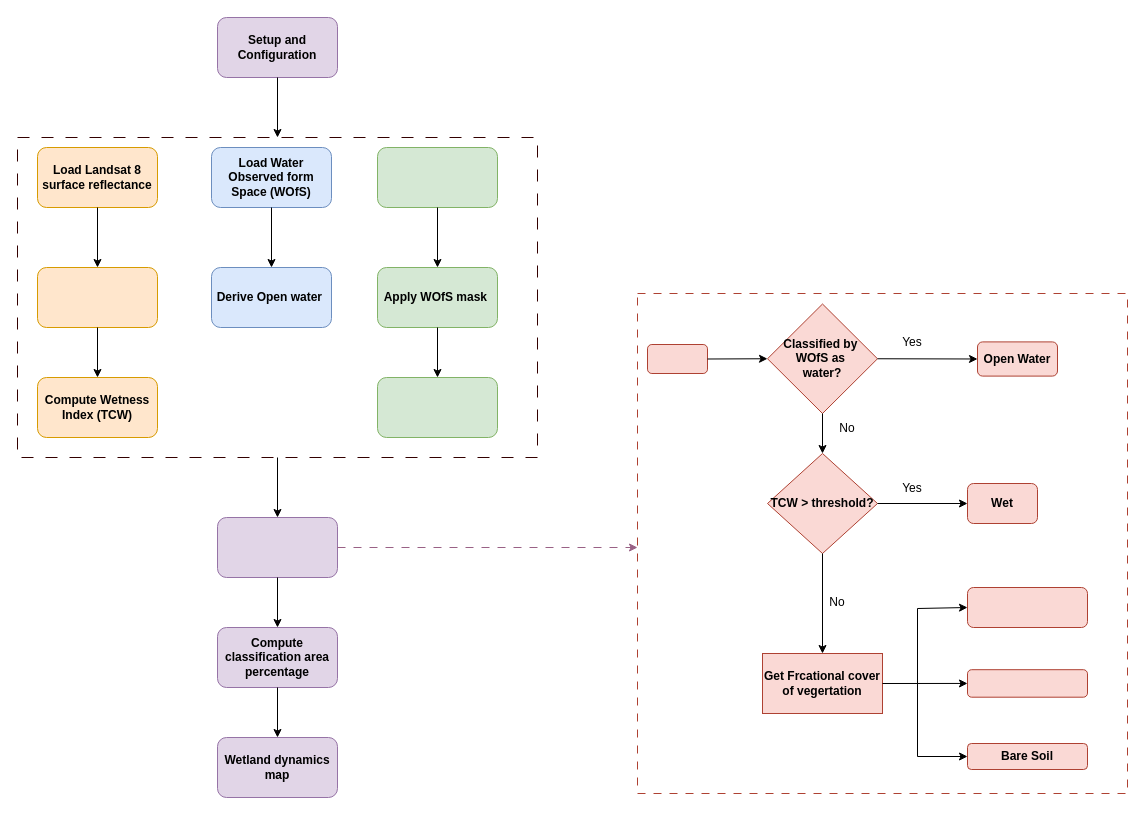
Image size: 1145x815. Some labels were removed from this diagram. The shapes that lost their labels are listed below. From the top down, each one's box as (x1, y1, x2, y2) in pixels, then its label:
(376, 146, 498, 208): Load Frational Cover (FC)
(36, 266, 158, 328): Cloud Masking
(646, 344, 708, 374): Pixel
(376, 376, 498, 438): Apply TCW mask
(216, 516, 338, 578): Generate classification
(966, 586, 1088, 628): Green Vegetation
(966, 669, 1088, 697): Dry Vegetation
